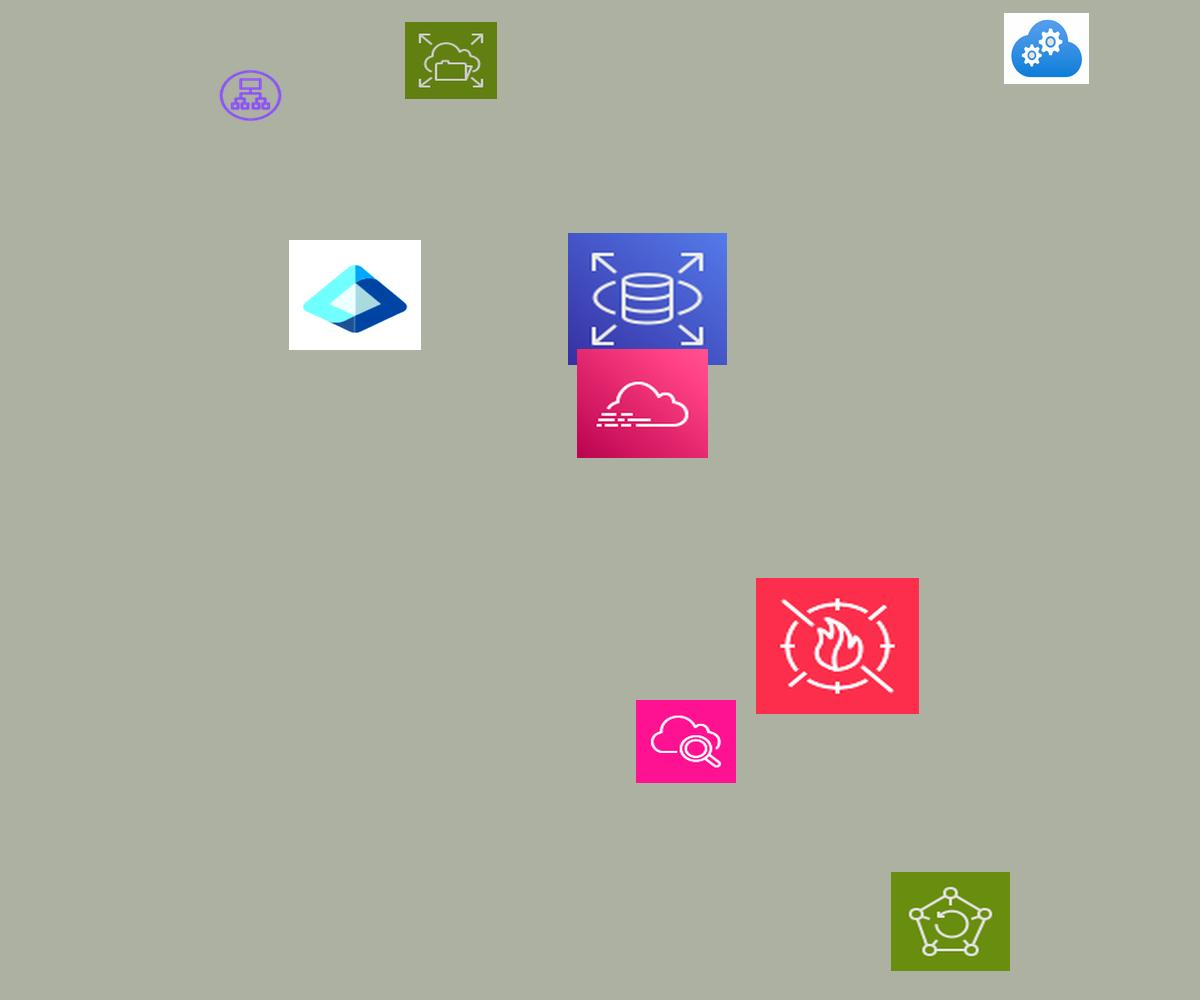AWS-Backup: (891, 872, 1010, 971)
AWS-CloudTrail: (577, 349, 708, 458)
AWS-CloudWatch: (636, 700, 736, 783)
AWS-EFS: (405, 22, 497, 99)
AWS-RDS: (568, 233, 727, 365)
AWS-Res_Elastic-Load-Balancing_Application-Load-Balancer: (217, 68, 284, 123)
AWS-WAF: (756, 578, 919, 714)
Azure_cloud_services: (1004, 13, 1089, 84)
Azure_microsoft_entra: (289, 240, 421, 350)
